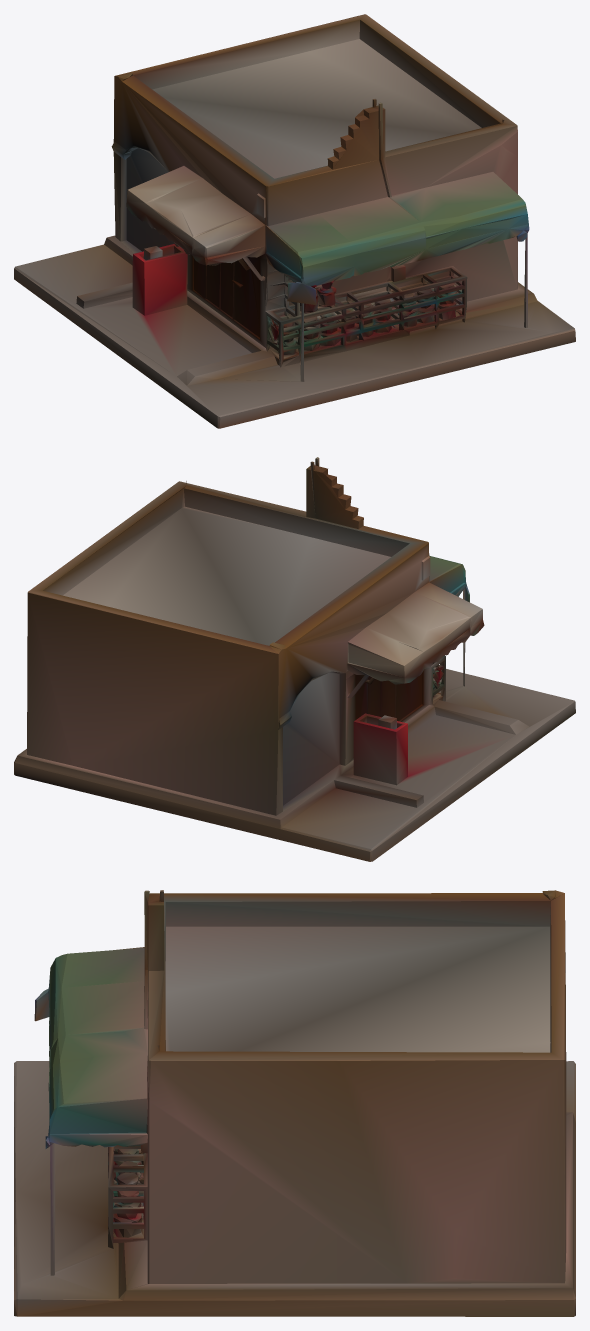
Rendered from boutique-CcW9ofDM.glb.
3 views of the same model, one above another, from view 1: azimuth 30°, elevation 25°; view 2: azimuth 150°, elevation 25°; view 3: azimuth 270°, elevation 25° (orthographic). The views are drawn at different scales.
Parts seen in each view (by area): view 1: Object_4; view 2: Object_4; view 3: Object_4.
Part boxes in pixels (x1,y1,x2,y2): Object_4: (14, 14, 575, 428); Object_4: (14, 457, 575, 861); Object_4: (14, 890, 575, 1316).
Size of the model in its own units: 0.7781 by 0.4964 by 0.7708.
